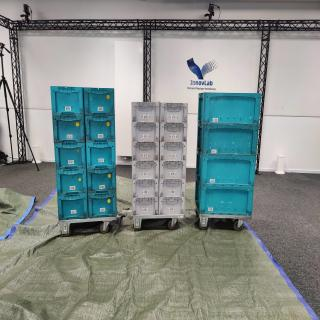Box8G: (160, 103, 190, 125), (132, 101, 160, 124), (133, 142, 161, 164), (132, 123, 161, 144), (161, 142, 188, 164), (161, 123, 189, 144), (133, 161, 161, 182), (161, 161, 188, 182), (159, 181, 188, 200), (133, 180, 160, 200), (160, 198, 187, 217), (133, 198, 160, 217)
BoxB4: (197, 92, 263, 129), (195, 126, 261, 160), (194, 181, 256, 217), (196, 157, 257, 190)
BoxB8: (51, 86, 86, 118), (55, 141, 86, 173), (84, 88, 117, 118), (54, 115, 86, 145), (57, 169, 89, 199), (85, 116, 118, 144), (87, 170, 120, 198), (89, 192, 119, 222), (86, 143, 118, 171), (59, 194, 89, 223)
